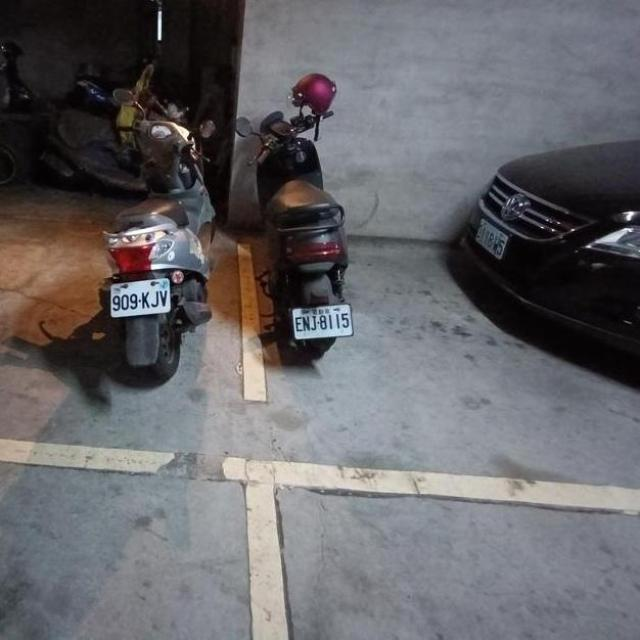W: (104, 269, 175, 322), (287, 296, 355, 344), (467, 212, 514, 262)
